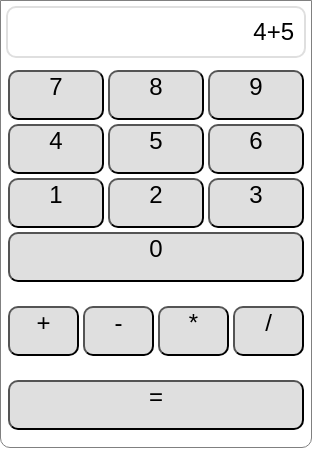
Test: sends calculations to the server and displays the result
Click the button with class "calculate": (156, 405) [8,380,304,430]
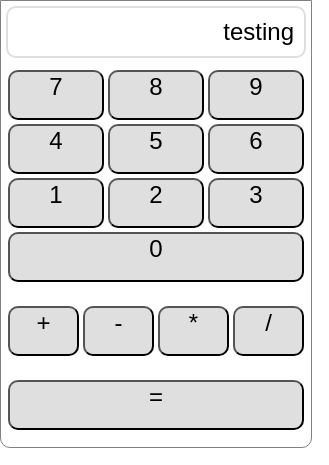
Result: the text "testing" is shown at [6,6,306,58]
